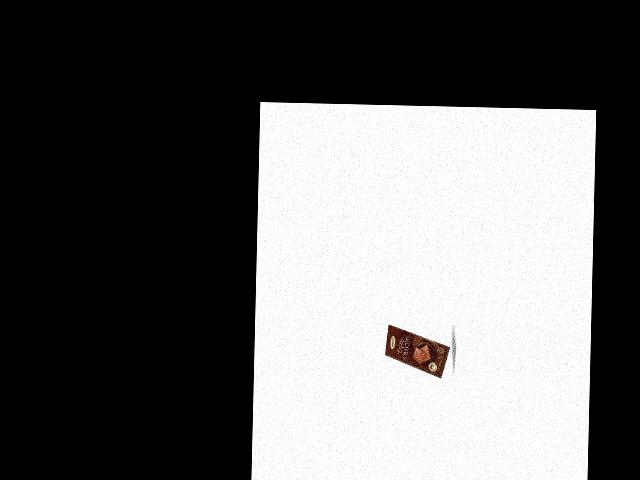chocolate: (383, 323, 453, 380)
